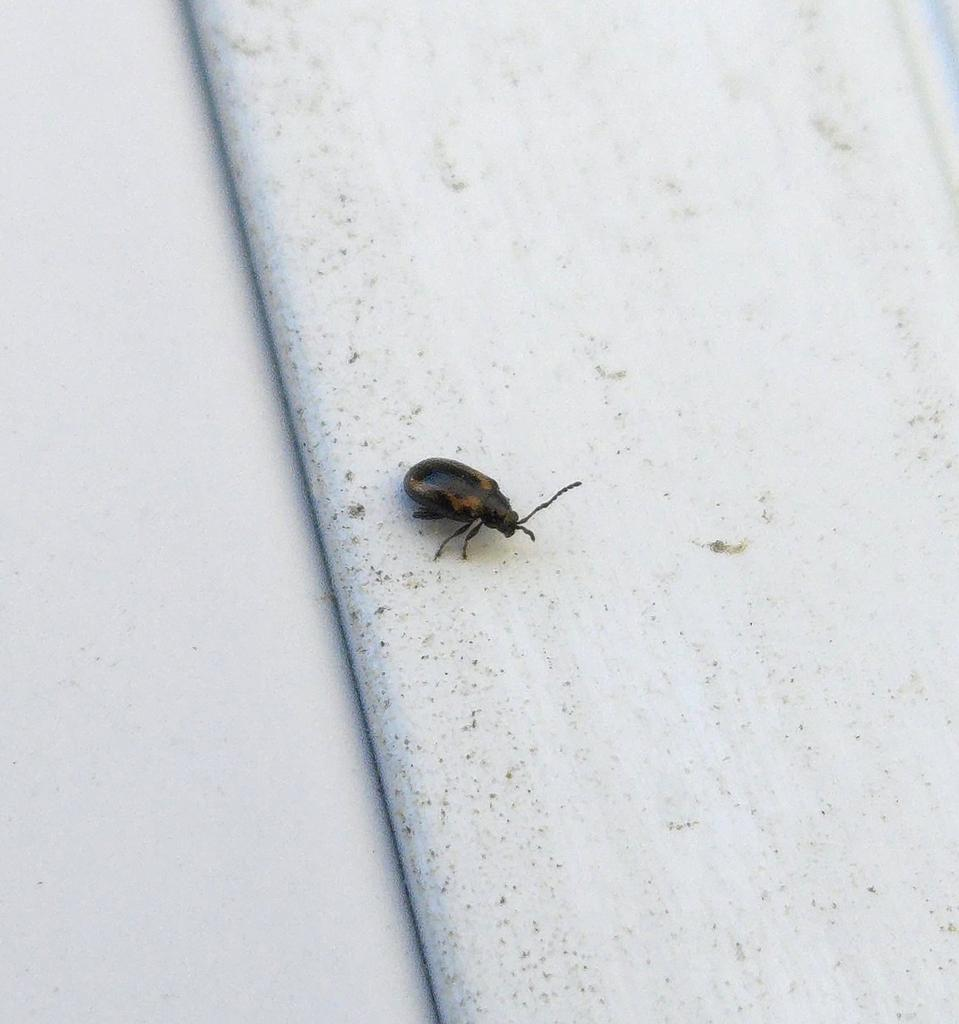flea_beetle: (388, 395, 604, 623)
